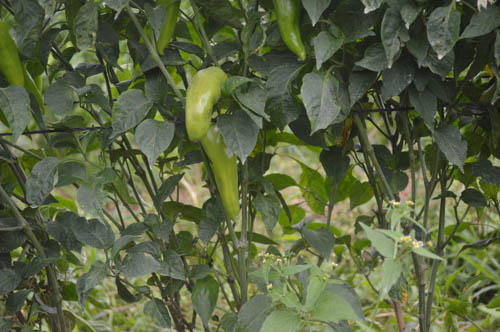ChiliPepper: (183, 67, 231, 145), (204, 127, 241, 224), (274, 4, 304, 60)
